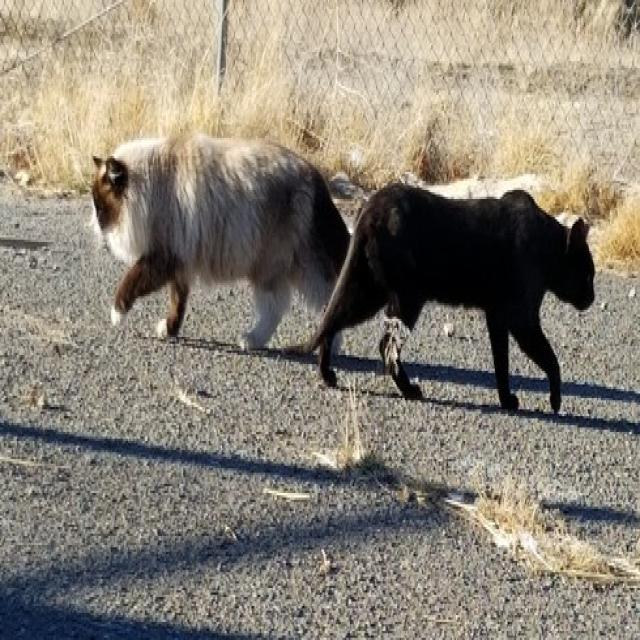cat: (305, 184, 595, 410), (94, 134, 349, 347)
